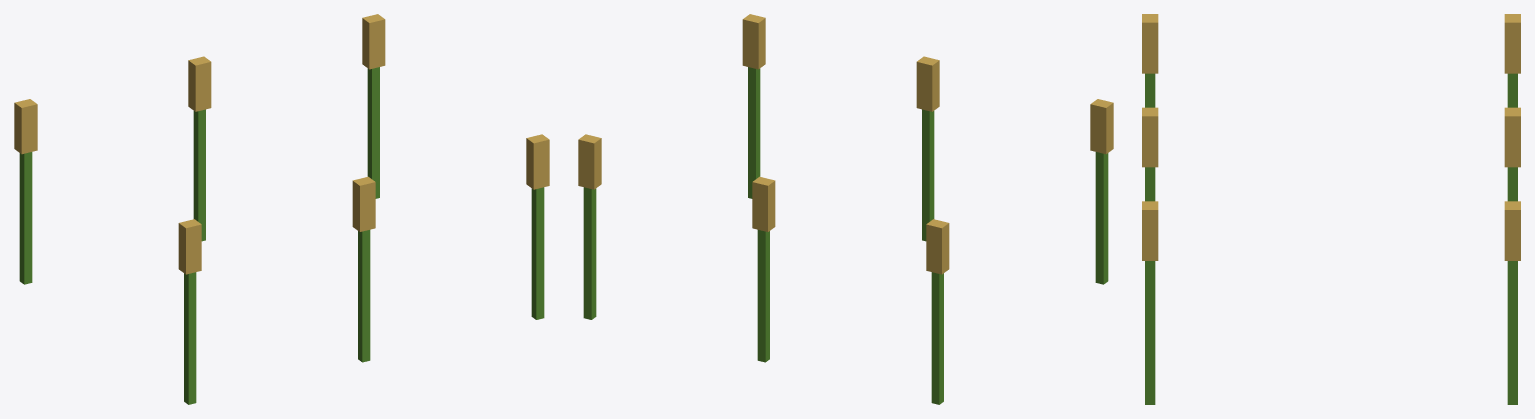
Rendered from wheat_ripe.glb.
The picture shows the model from 3 angles, left to right: view 1: azimuth 30°, elevation 25°; view 2: azimuth 150°, elevation 25°; view 3: azimuth 270°, elevation 25°; orthographic projection. The views are drawn at different scales.
Parts seen in each view (by area): view 1: wheat_ripe; view 2: wheat_ripe; view 3: wheat_ripe.
Boxes of the visible parts, x1,y1,x2,y2 form: wheat_ripe: (14, 14, 549, 404); wheat_ripe: (578, 14, 1113, 404); wheat_ripe: (1142, 14, 1520, 404).
Size of the model in its own units: 1.15 by 0.54 by 0.94.
1 material, 1 textured.
